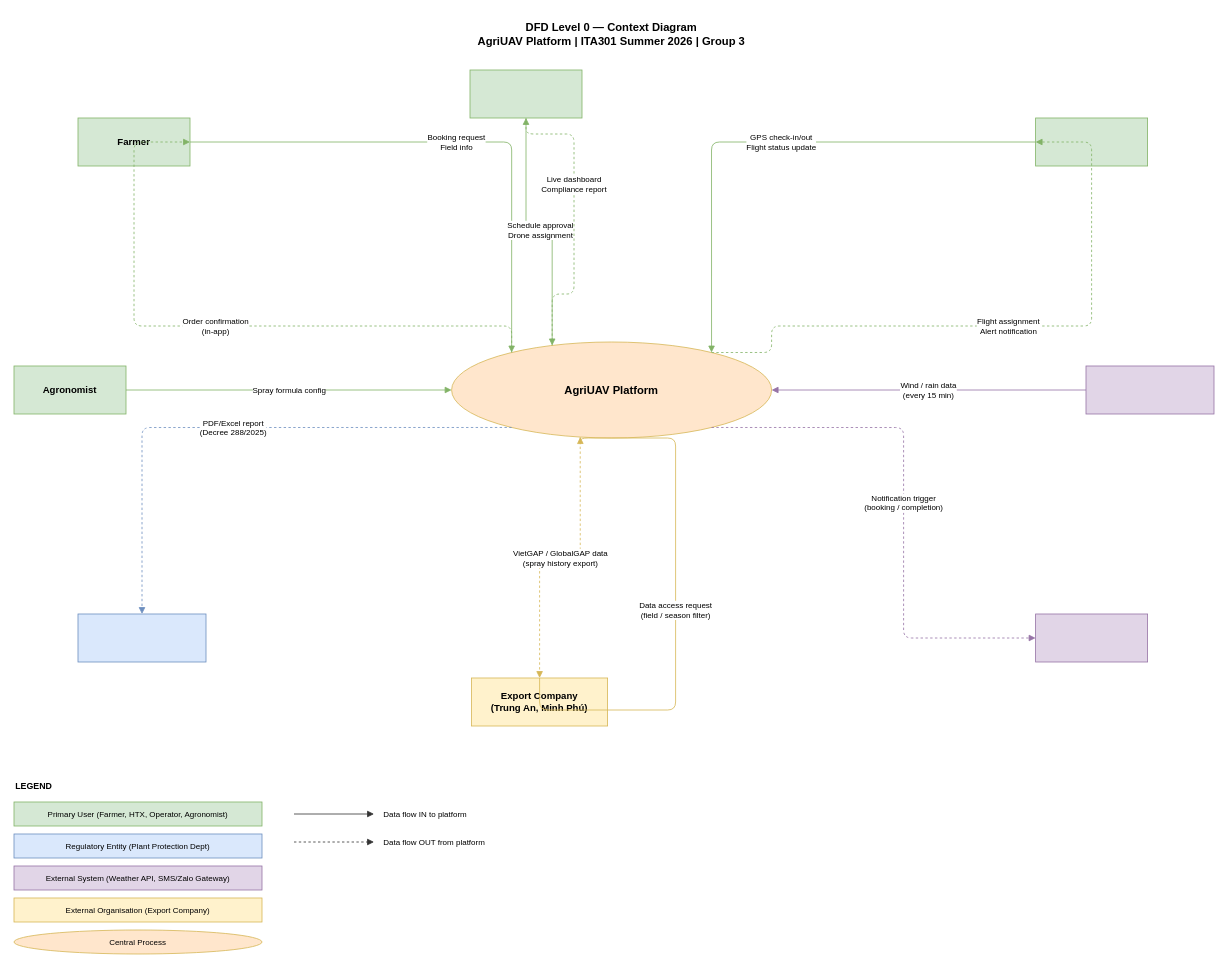
The diagram is 1228 pixels wide and 968 high, and some of its shapes have lost their labels. Here are the shapes that lost their labels. From the top down, the centre of each, then its label:
[525,93]: HTX Manager
[1091,141]: Operator / Pilot
[1149,389]: Weather API (OpenWeatherMap)
[141,637]: Plant Protection Dept (Cục BVTV)
[1091,637]: SMS / Zalo Gateway
